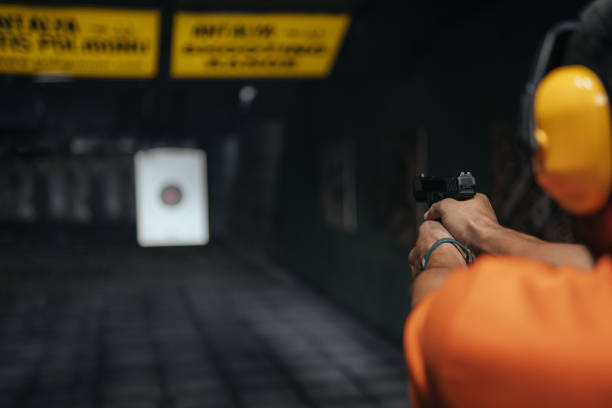gun: (410, 170, 478, 205)
